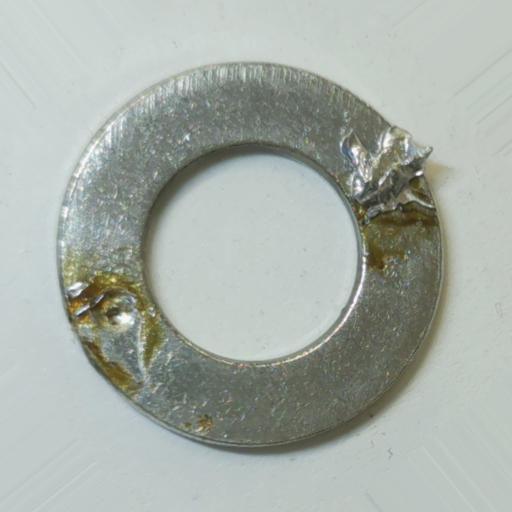excess_material: (64, 269, 150, 387), (337, 123, 436, 221)
